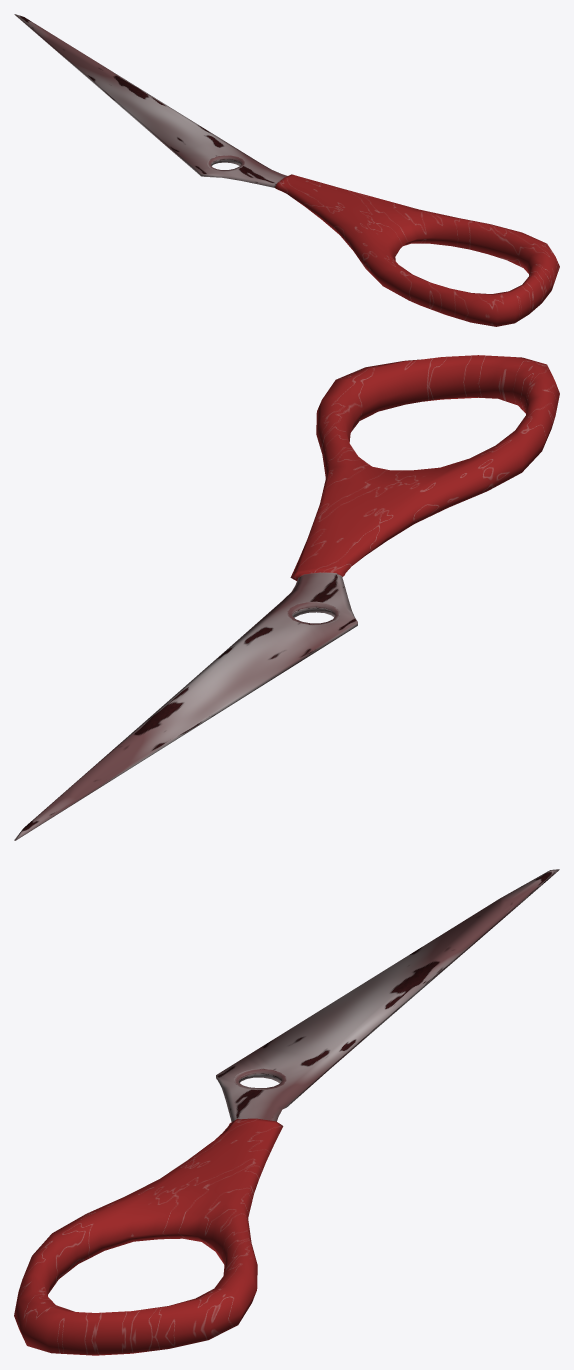
File: Scissors_Blade.fbx
3 renders of one model, top to bottom at view 1: azimuth 30°, elevation 25°; view 2: azimuth 150°, elevation 25°; view 3: azimuth 330°, elevation 25°, orthographic. The views are drawn at different scales.
Parts seen in each view (by area): view 1: Scissors_Blade_Maps; view 2: Scissors_Blade_Maps; view 3: Scissors_Blade_Maps.
Boxes of the visible parts, x1,y1,x2,y2 form: Scissors_Blade_Maps: [14, 14, 559, 326]; Scissors_Blade_Maps: [14, 355, 559, 840]; Scissors_Blade_Maps: [14, 869, 559, 1355].
Size of the model in its own units: 0.0329 by 0.00519 by 0.1337.
